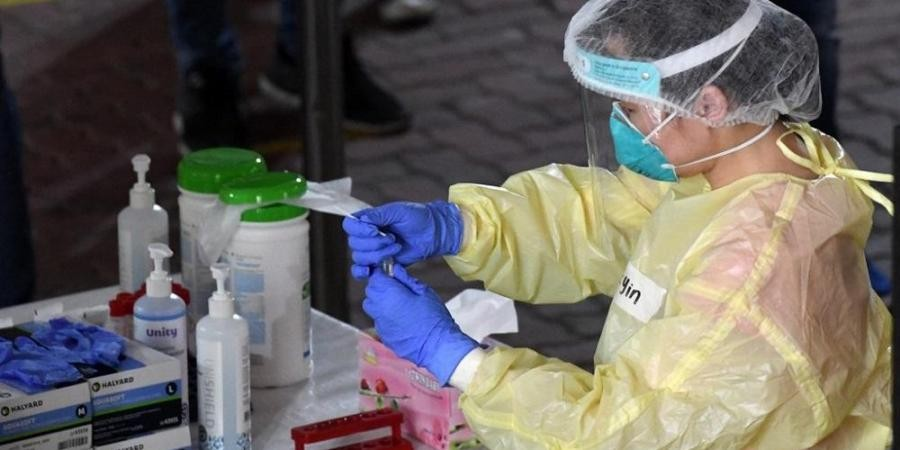Face_Shield: (576, 50, 702, 246)
Gloves: (360, 265, 480, 385), (344, 190, 470, 290)
with_mask: (611, 99, 689, 183)
